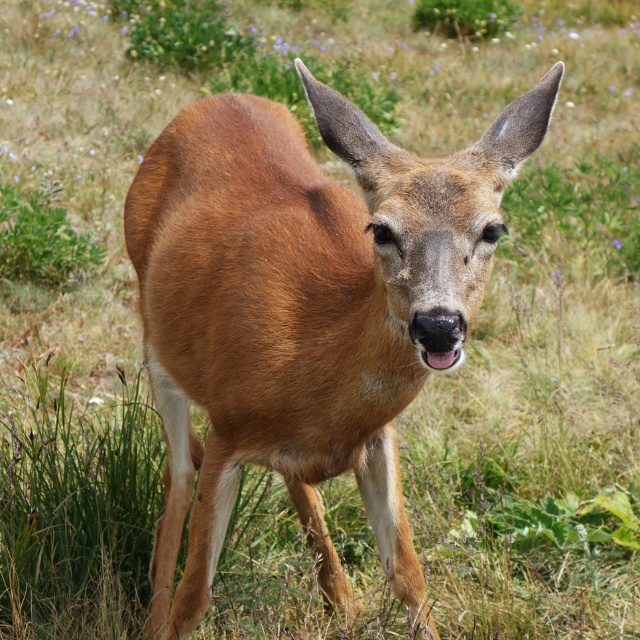Deer: (124, 61, 564, 638)
